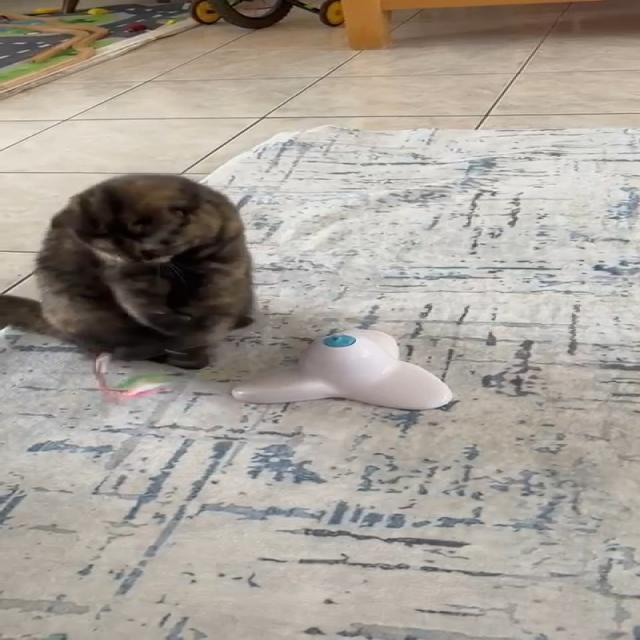authorized: (0, 172, 256, 370)
